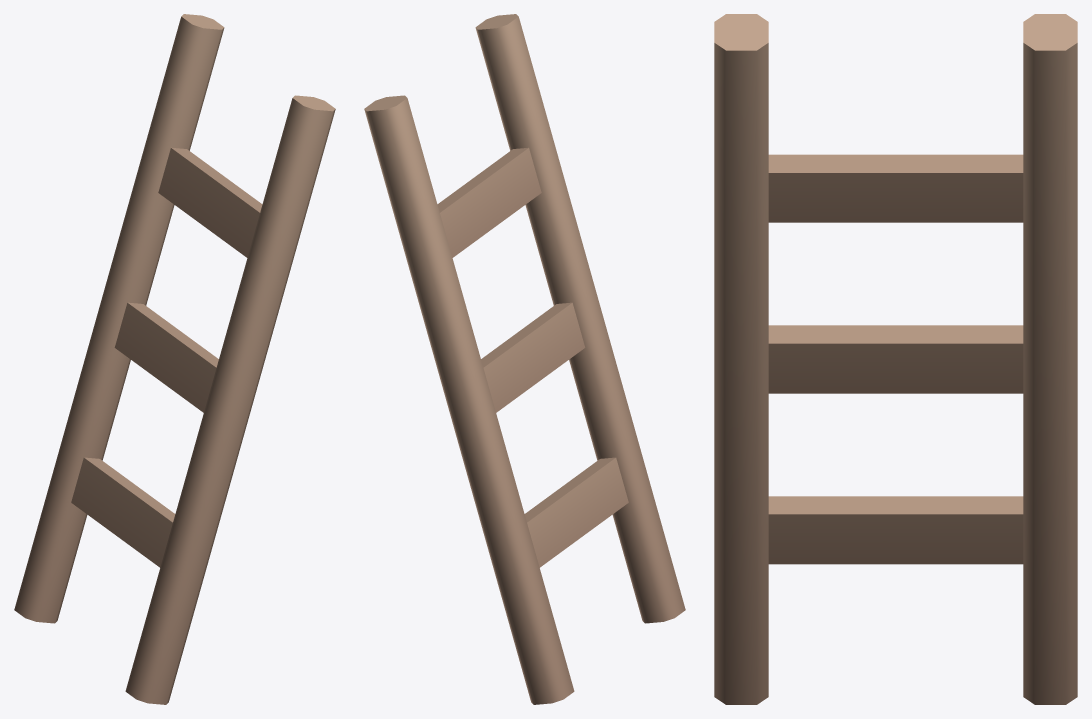
File: ladder-wall-short.glb
3 views of the same model, side by side, from view 1: azimuth 30°, elevation 25°; view 2: azimuth 150°, elevation 25°; view 3: azimuth 270°, elevation 25° (orthographic). The views are drawn at different scales.
Parts seen in each view (by area): view 1: ladder-wall-short; view 2: ladder-wall-short; view 3: ladder-wall-short.
Part boxes in pixels (bbox=[...]): ladder-wall-short: bbox=[14, 14, 335, 704]; ladder-wall-short: bbox=[364, 14, 685, 704]; ladder-wall-short: bbox=[714, 14, 1077, 704].
Bounding box in the file's own units: 0.4134 × 1.12 × 0.47.
